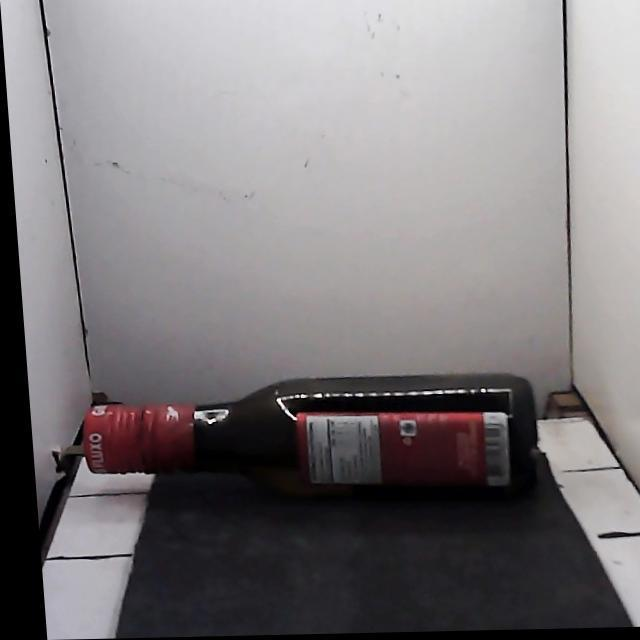vidro: (83, 374, 536, 495)
